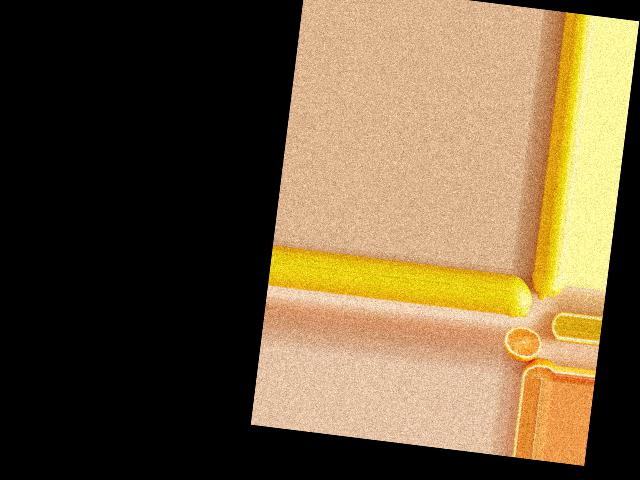lemon: (528, 270, 565, 305)
